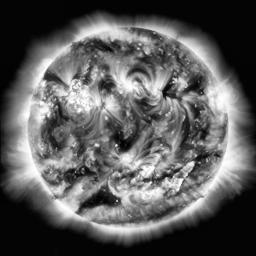solar flares: (115, 183, 161, 201), (61, 86, 95, 107), (204, 88, 225, 116), (115, 70, 136, 95), (116, 152, 139, 168), (142, 80, 163, 96), (100, 100, 114, 115)
sunspots: (44, 114, 60, 149), (88, 184, 113, 205), (89, 39, 113, 56), (114, 131, 136, 149), (184, 78, 201, 98), (67, 166, 96, 176), (183, 113, 192, 144), (49, 73, 67, 87), (199, 125, 212, 144), (165, 85, 177, 104), (99, 73, 113, 89), (192, 154, 211, 165)
